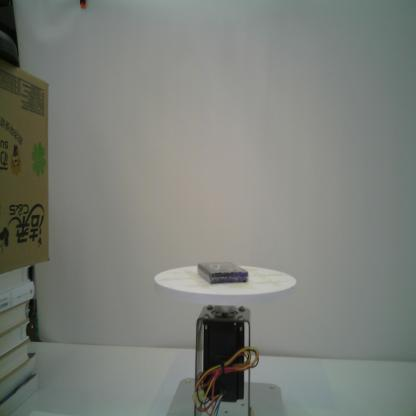Gum: (195, 258, 250, 286)
